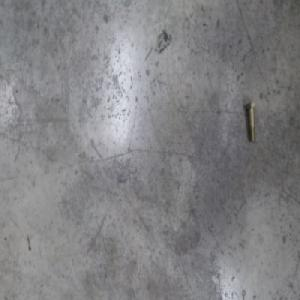Bolt: (245, 100, 256, 142)
